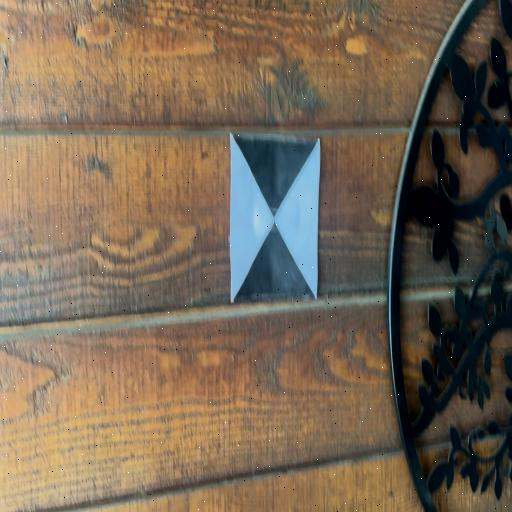target: (230, 131, 318, 300)
